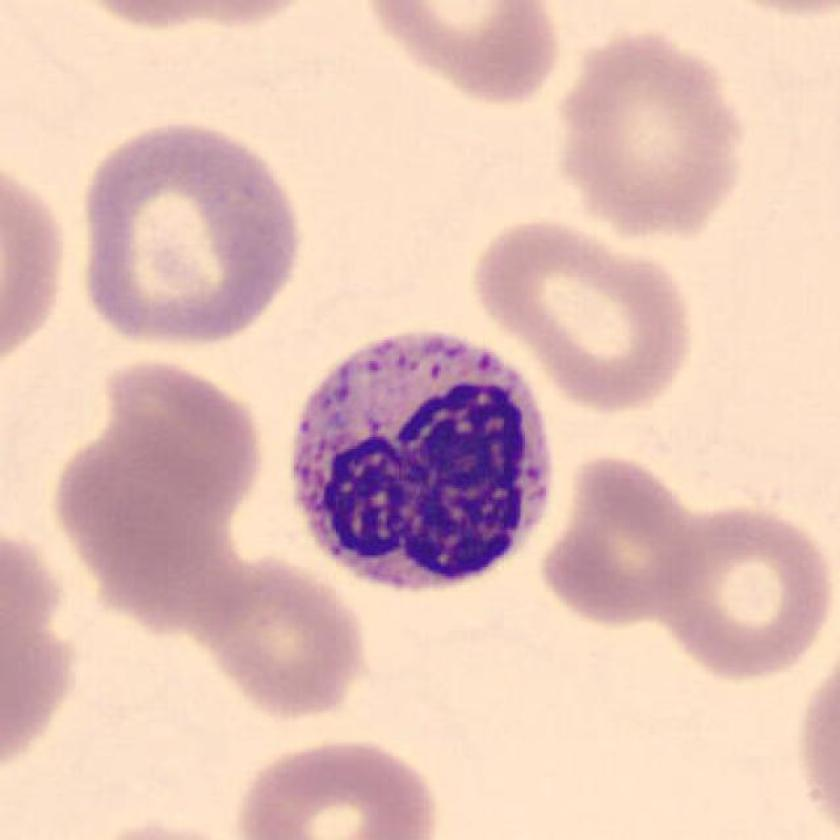neutrophil: (299, 336, 552, 589)
